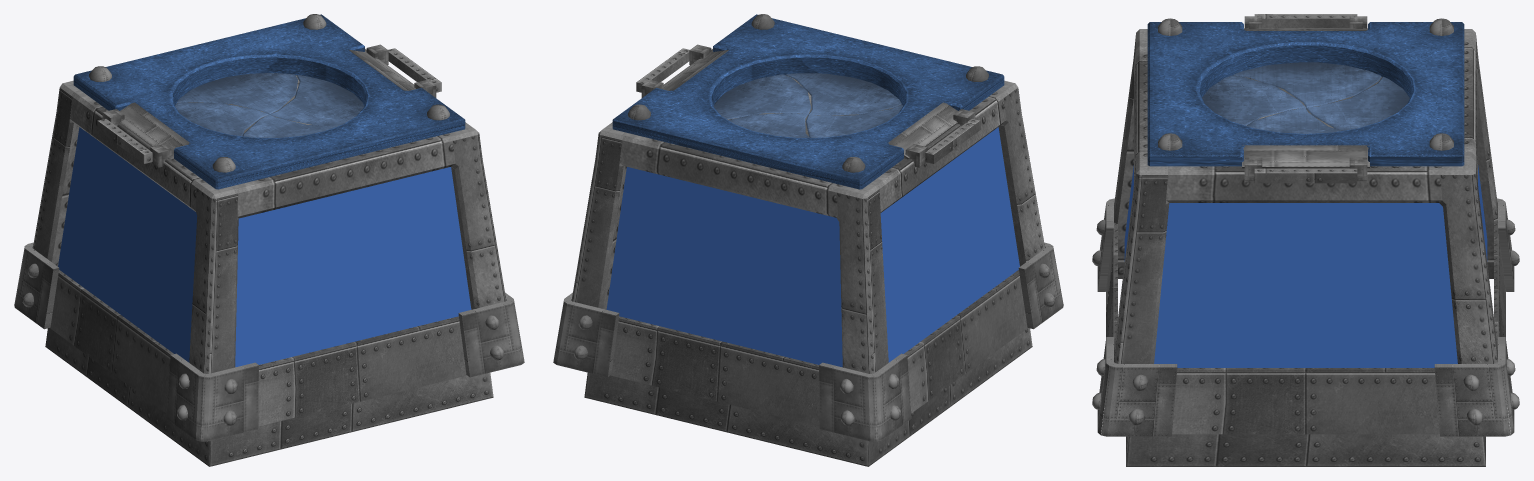
File: static.glb
3 views of the same model, side by side, from view 1: azimuth 30°, elevation 25°; view 2: azimuth 150°, elevation 25°; view 3: azimuth 270°, elevation 25° (orthographic). The views are drawn at different scales.
Parts seen in each view (by area): view 1: Plane, Boole, Plane_2, frame, Cube_4, Cube_3, frame_2, Cube_7, frame_3, Cube_6, Cube_8, Extrude_6 (+8 smaller); view 2: Plane_3, Boole, Plane_2, frame_3, Cube_10, Cube_3, frame_2, Cube_7, frame_4, Cube_14, Cube_12, Extrude (+8 smaller); view 3: Plane_4, Boole, Cube_13, frame_4, Cube_3, frame, Cube_5, Cube_15, frame_3, Extrude_4, Extrude, Cube (+11 smaller).
Part boxes in pixels (box(x1,y1,x2,y2)): Plane: box(235, 167, 471, 367); Boole: box(73, 14, 465, 189); Plane_2: box(58, 127, 197, 362); frame: box(231, 122, 506, 309); Cube_4: box(258, 316, 466, 426); Cube_3: box(45, 75, 493, 466); frame_2: box(70, 90, 238, 433); Cube_7: box(50, 270, 173, 413); frame_3: box(33, 80, 79, 266); Cube_6: box(458, 300, 524, 377); Cube_8: box(201, 362, 258, 441); Extrude_6: box(177, 73, 297, 114); Plane_3: box(606, 167, 842, 367); Boole: box(612, 14, 1004, 189); Plane_2: box(880, 127, 1019, 362); frame_3: box(620, 132, 888, 433); Cube_10: box(611, 316, 819, 426); Cube_3: box(584, 75, 1032, 466); frame_2: box(869, 80, 1044, 266); Cube_7: box(904, 270, 1027, 413); frame_4: box(571, 49, 712, 309); Cube_14: box(553, 300, 619, 377); Cube_12: box(819, 362, 876, 441); Extrude: box(786, 73, 901, 115); Plane_4: box(1154, 203, 1457, 367); Boole: box(1147, 22, 1464, 166); Cube_13: box(1172, 368, 1439, 434); frame_4: box(1165, 157, 1497, 363); Cube_3: box(1126, 77, 1485, 466); frame: box(1114, 39, 1169, 363); Cube_5: box(1101, 363, 1177, 436); Cube_15: box(1434, 363, 1510, 436); frame_3: box(1464, 29, 1497, 278); Extrude_4: box(1233, 62, 1381, 107); Extrude: box(1202, 75, 1305, 125); Cube: box(1254, 14, 1357, 183).
Bounding box in the file's own units: 2.05 × 1.66 × 2.05.
4 materials, 3 textured.
